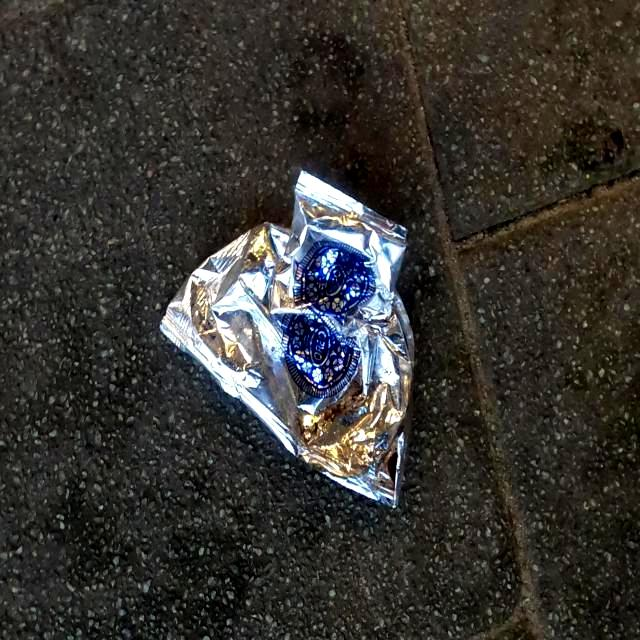Plastic: (158, 166, 418, 514)
